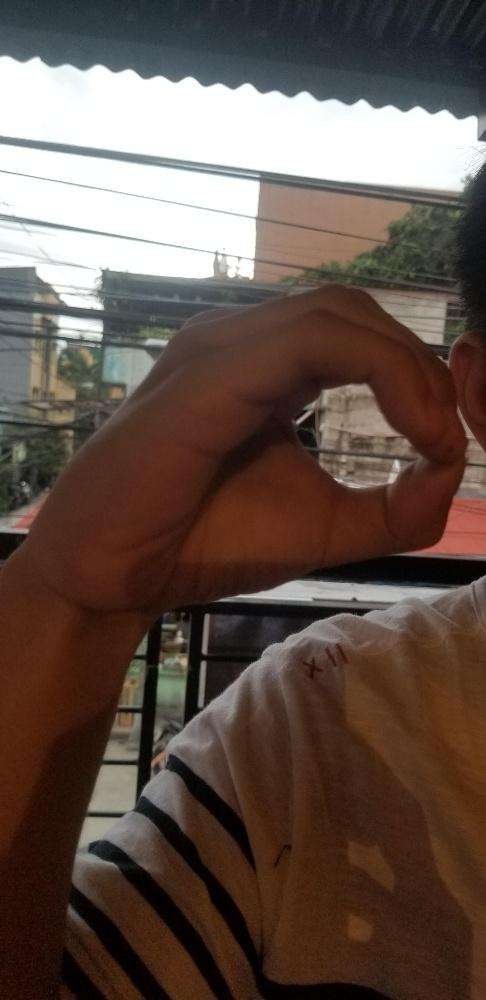o: (33, 283, 471, 612)
